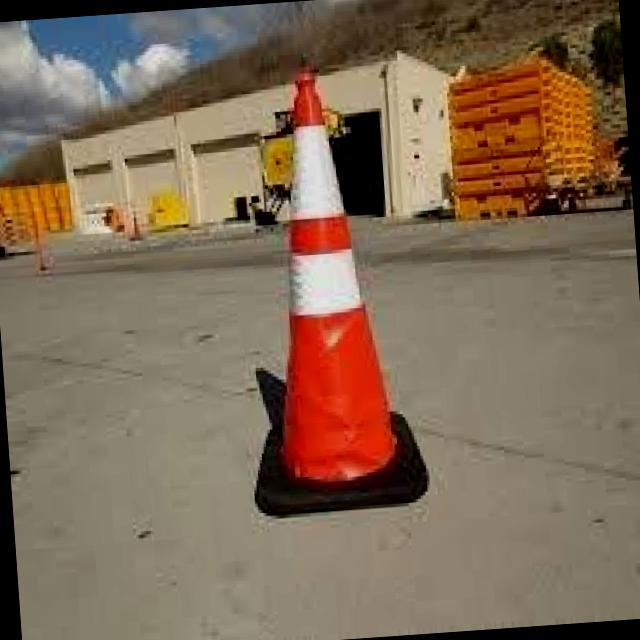cone: (230, 60, 432, 522)
